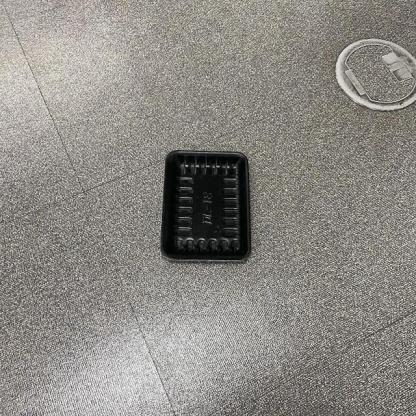Glass Cup: (160, 150, 251, 262), (161, 151, 250, 260)
